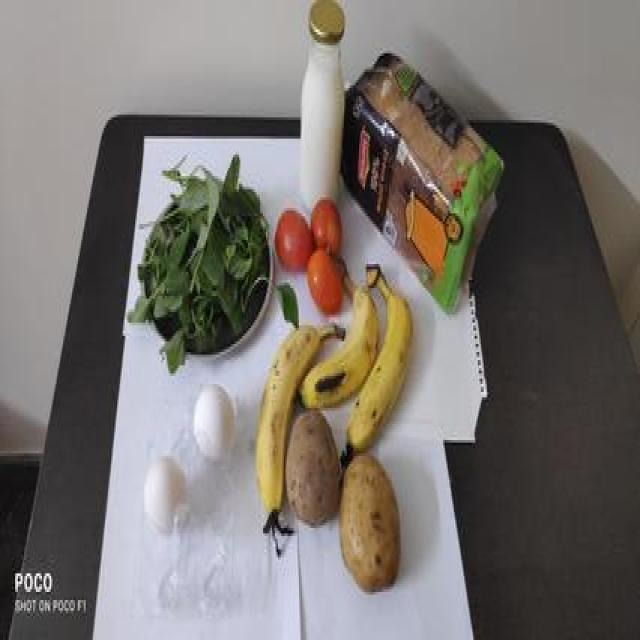Fresh_Spinach: (136, 162, 274, 350)
Fresh_tomato: (270, 192, 358, 320), (308, 249, 343, 310), (276, 216, 311, 271), (311, 200, 341, 252)
